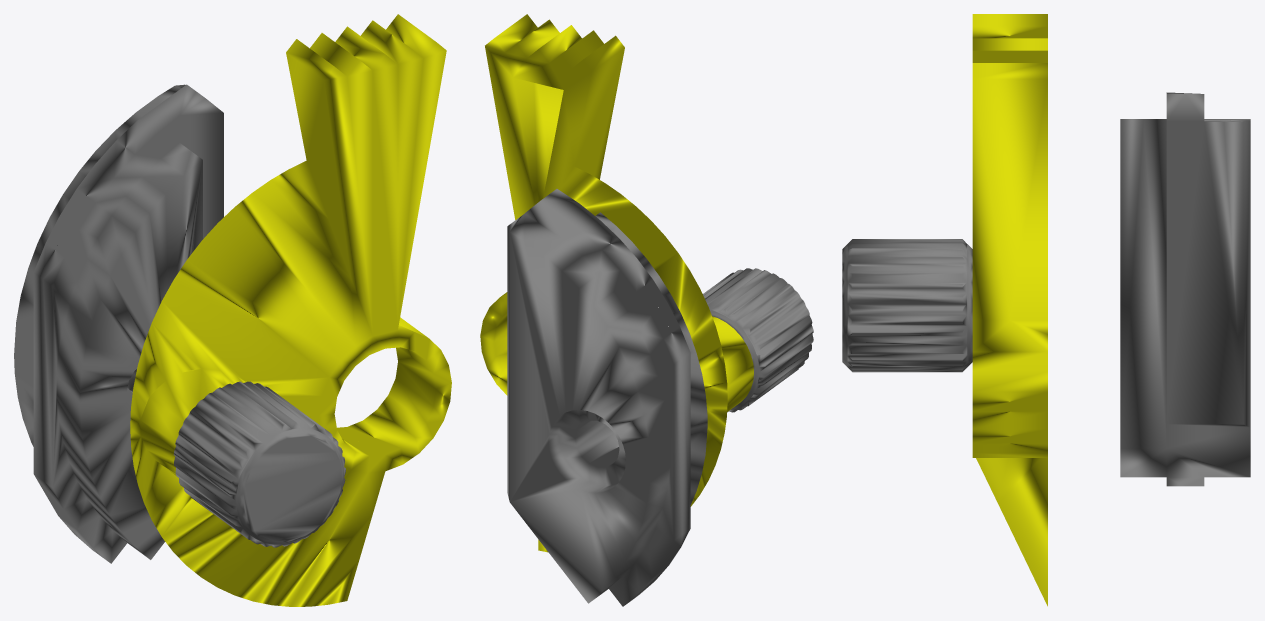
File: bennettinsert_right_metal_deco.obj
3 views of the same model, side by side, from view 1: azimuth 30°, elevation 25°; view 2: azimuth 150°, elevation 25°; view 3: azimuth 270°, elevation 25° (orthographic). The views are drawn at different scales.
Bounding box in the file's own units: 23.75 × 43.3 × 28.2.
